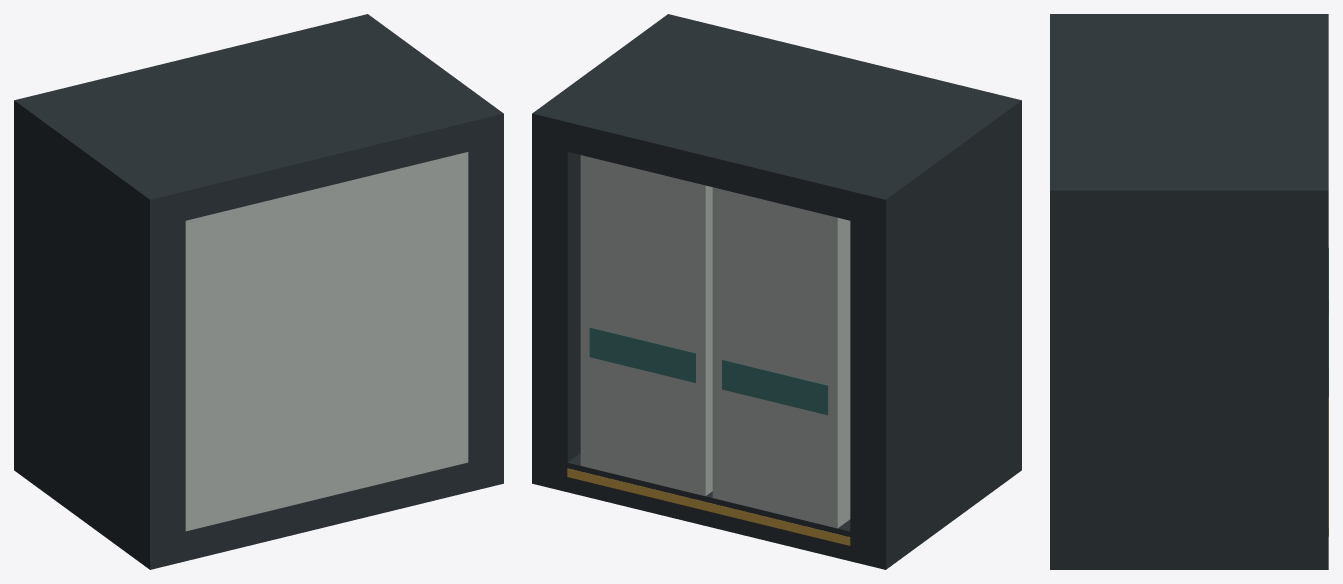
File: wreck-cargo-v2.glb
The picture shows the model from 3 angles, left to right: view 1: azimuth 30°, elevation 25°; view 2: azimuth 150°, elevation 25°; view 3: azimuth 270°, elevation 25°; orthographic projection. The views are drawn at different scales.
Parts seen in each view (by area): view 1: cargo_access; view 2: cargo_access; view 3: cargo_access.
Part boxes in pixels (x1,y1,x2,y2): cargo_access: (14, 14, 503, 569); cargo_access: (532, 14, 1021, 569); cargo_access: (1050, 14, 1328, 569).
Size of the model in its own units: 1.5 by 1.5 by 1.
